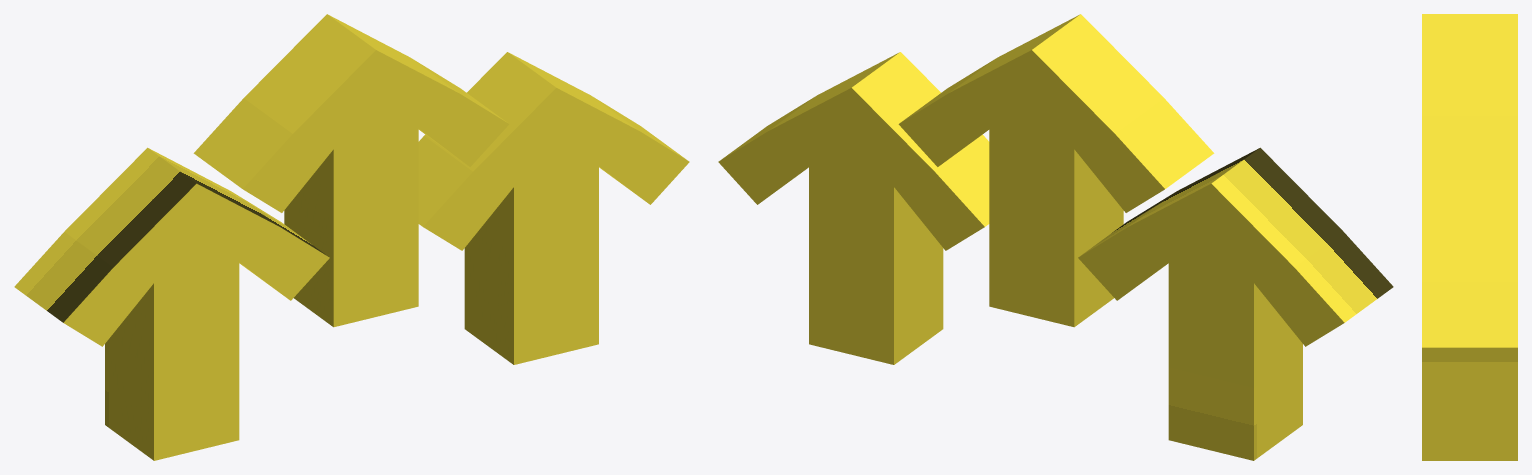
The model's file is 3Lines.fbx.
3 views of the same model, side by side, from view 1: azimuth 30°, elevation 25°; view 2: azimuth 150°, elevation 25°; view 3: azimuth 270°, elevation 25° (orthographic). The views are drawn at different scales.
Visible parts, largest first — view 1: 3 lines; view 2: 3 lines; view 3: 3 lines.
Part boxes in pixels (x1,y1,x2,y2): 3 lines: [14, 14, 689, 460]; 3 lines: [718, 14, 1393, 460]; 3 lines: [1422, 14, 1517, 460].
Size of the model in its own units: 147 by 80.19 by 20.
